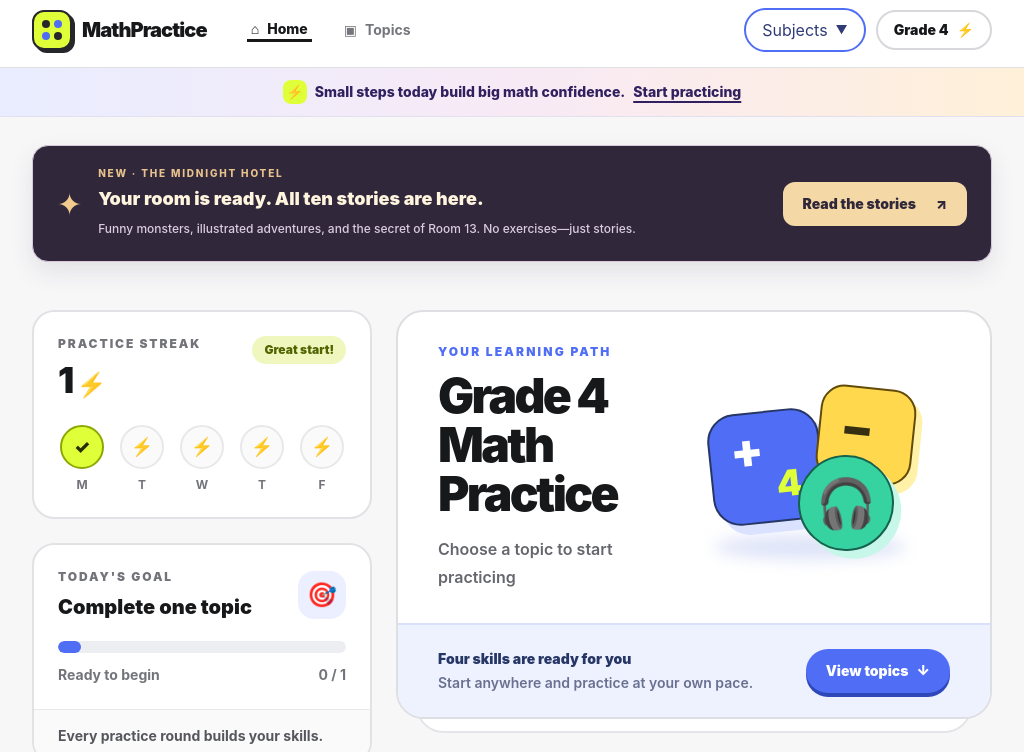
Scenario: topic selection › switches subjects and starts an English reading round
Click the button with aria-label "Choose subject" at (805, 30), box [744,8,866,52]
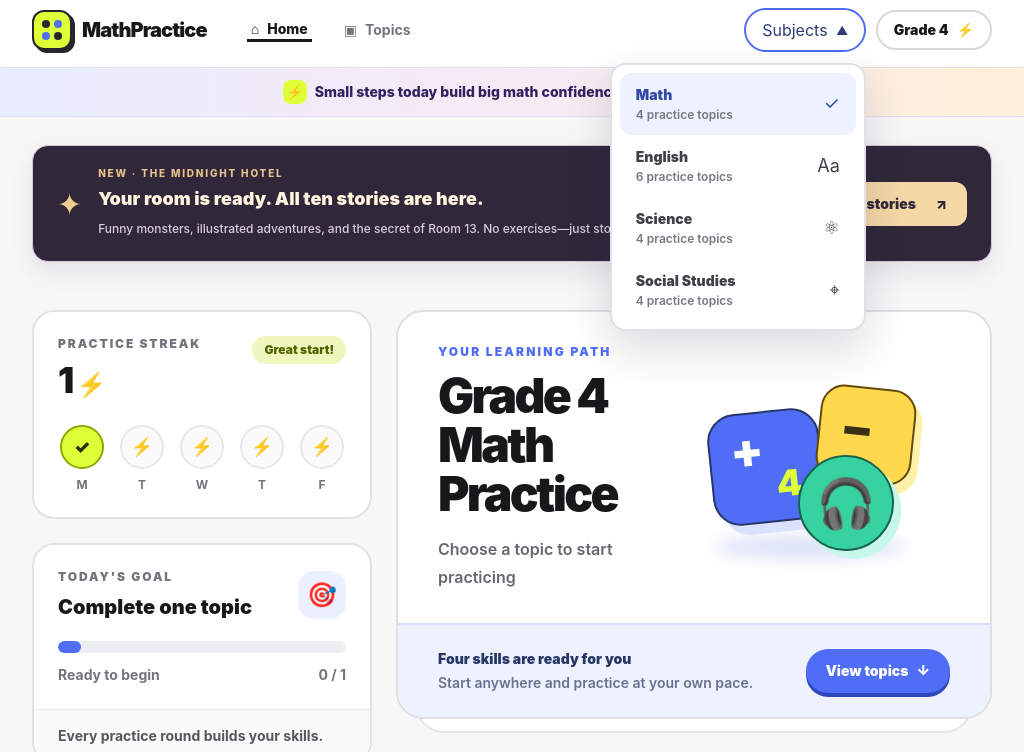
Click the menu item with aria-label "English, 6 practice topics" at (738, 166), box [620,135,856,197]
(page scrolled)
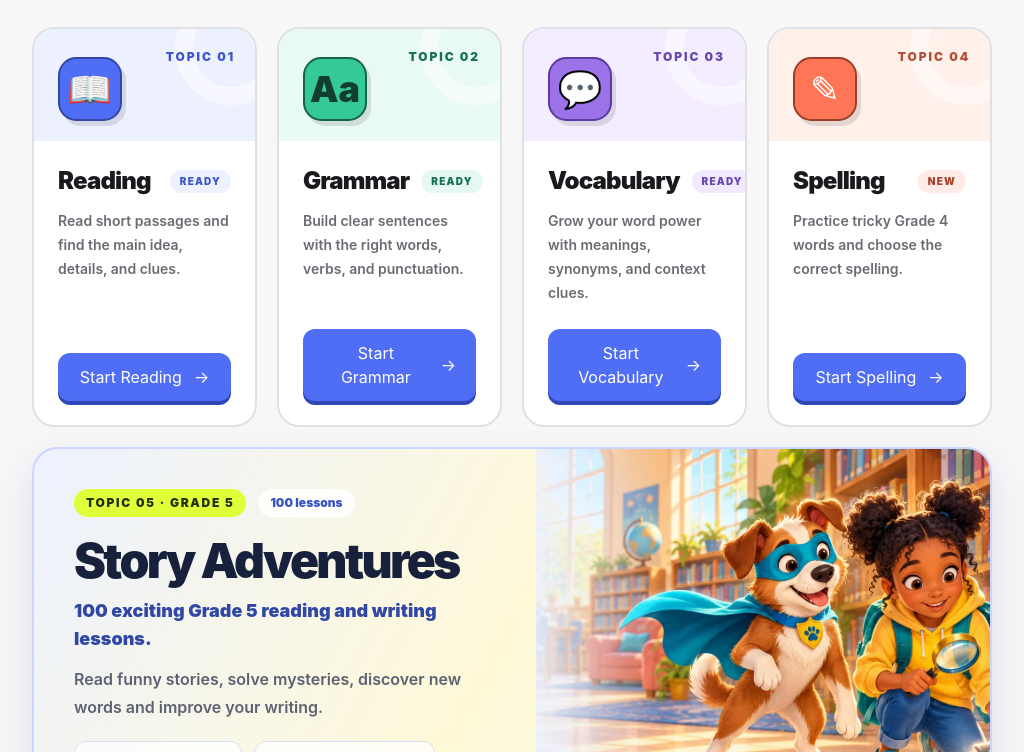
Now the button "Start Reading →" is shown
Click the button "Start Reading →" at (144, 377), box [58,353,231,401]
(page scrolled)
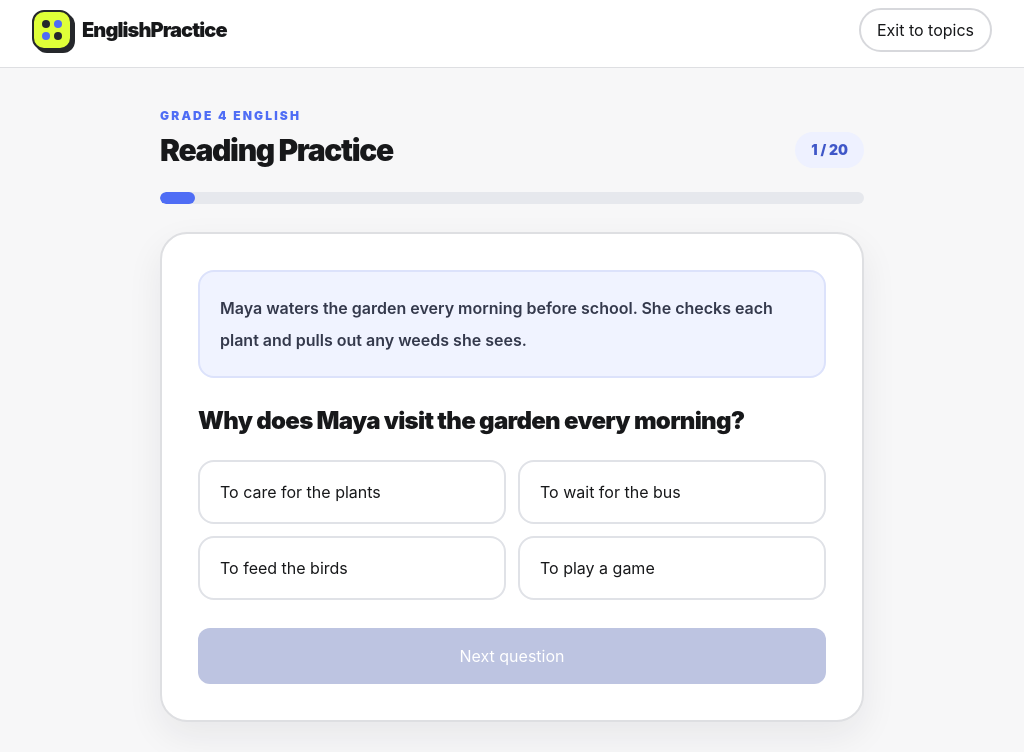
Now the heading "Reading Practice" is shown, box [160,132,393,168]
Now the heading "Why does Maya visit the garden every morning?" is shown, box [198,406,826,436]
Now the text "1 / 20" is shown, box [795,132,864,168]
